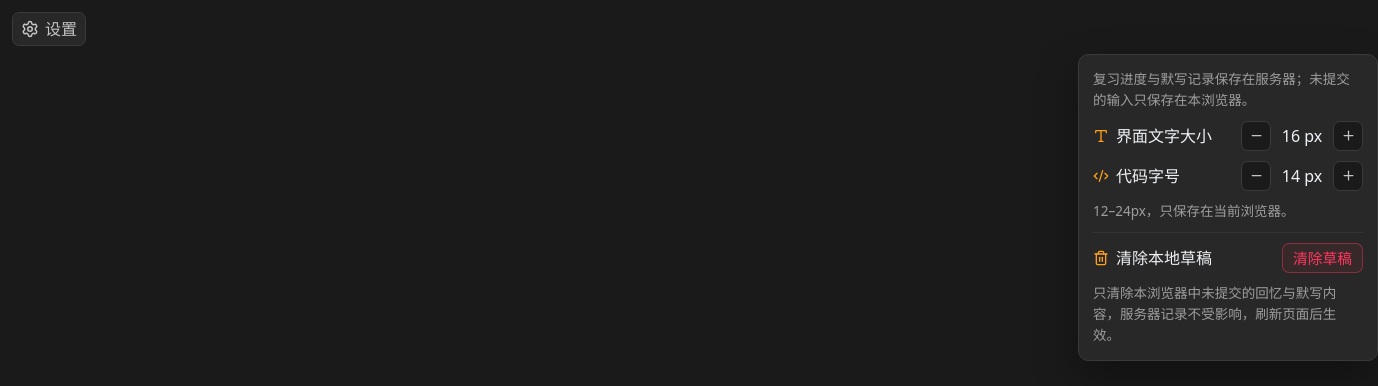
SettingsMenu › 两组字号独立步进并同步根变量
Click the button named "增大界面文字": (1348, 136) [1333,121,1363,151]
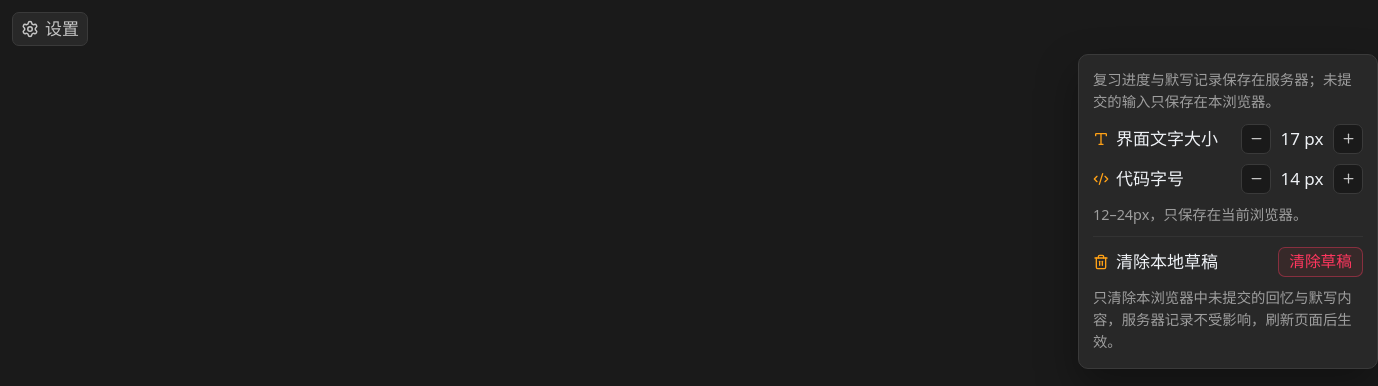
Expected: the text with class "size-value" reads "14 px", [1280,167,1324,190]
Expected: the text with class "size-value" reads "17 px", [1280,127,1324,150]
